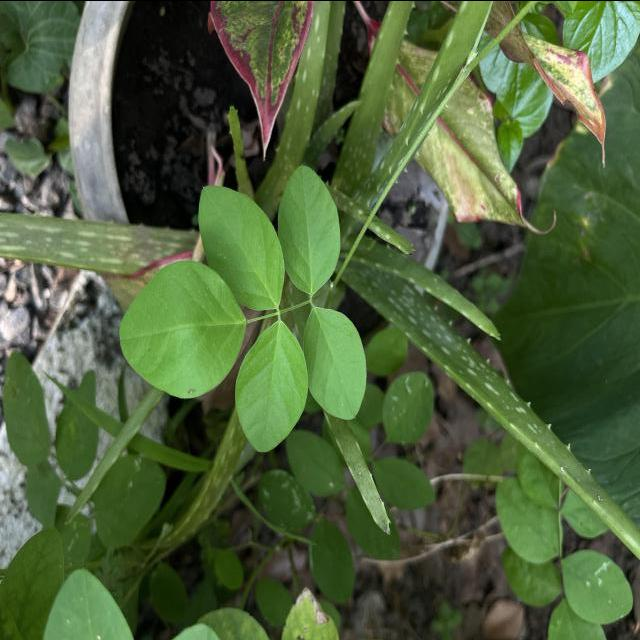Clitoria ternatea: (118, 258, 248, 400), (198, 183, 286, 311), (234, 318, 309, 454), (276, 163, 342, 295), (302, 305, 368, 420)
